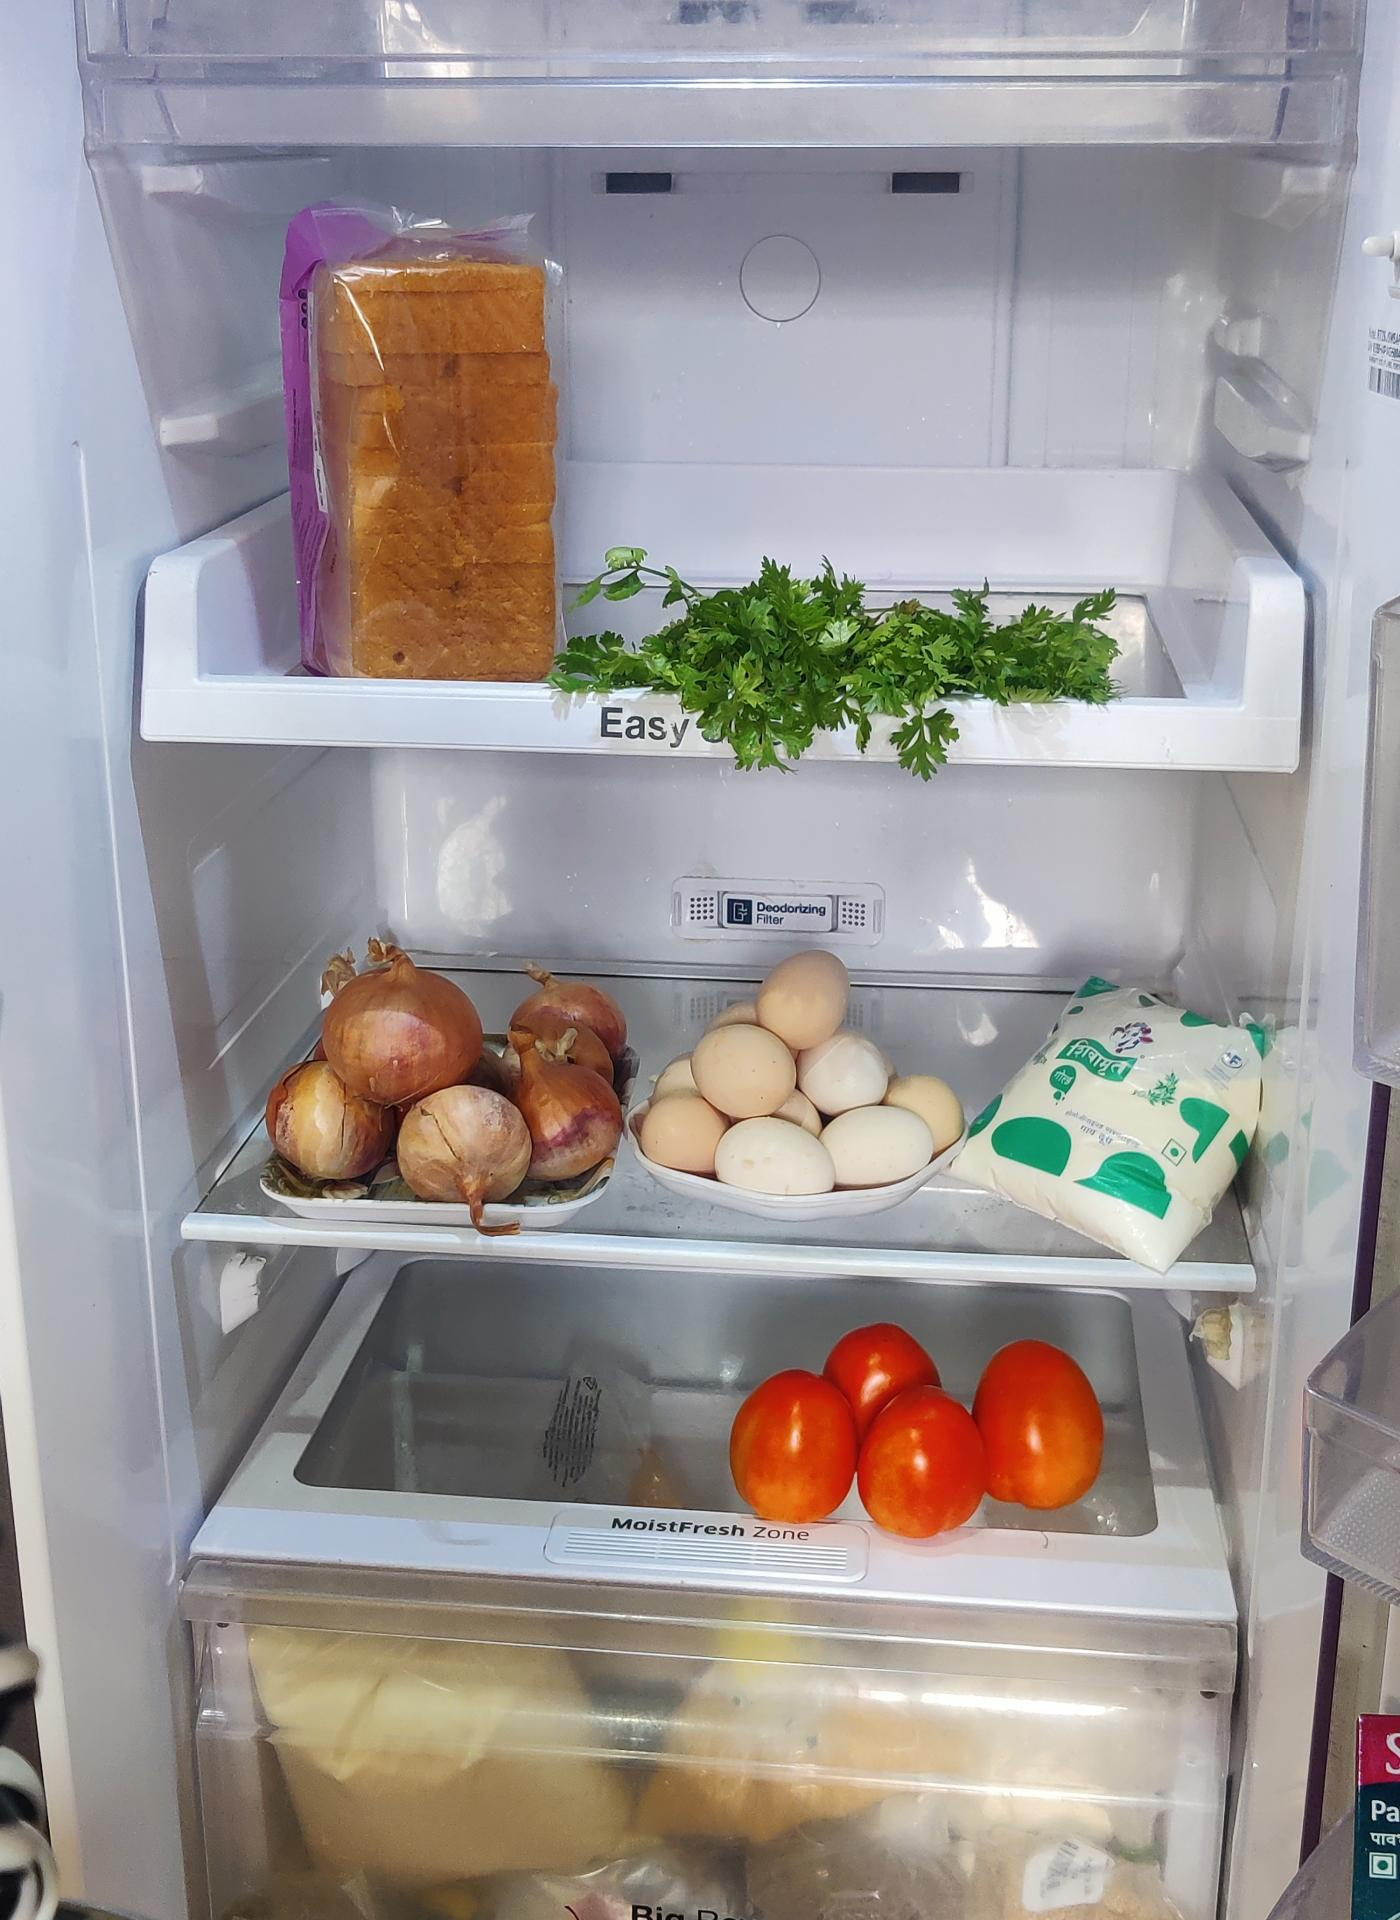bread: (282, 201, 573, 680)
coriander: (564, 556, 1120, 735)
egg: (637, 966, 954, 1210)
milk: (966, 979, 1267, 1260)
onion: (270, 929, 637, 1201)
tomato: (732, 1324, 1114, 1540)
